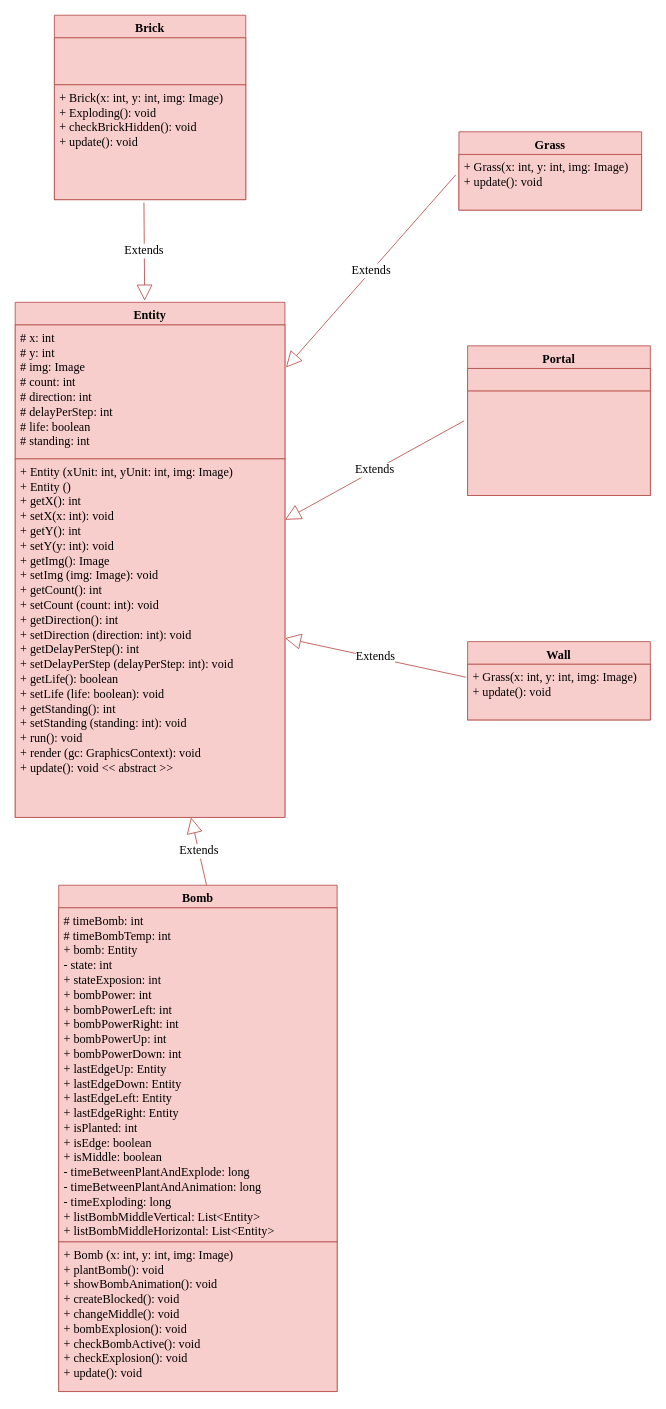
This 666x1409 diagram has some shape labels left out. Each missing label, with the centre of its shape:
+ dieScene: int + scoreOfThis: int: the point at 150,61
+ onPortal: boolean: the point at 558,379
+ Portal(x: int, y: int, img: Image) + canNextLevel(): boolean + update(): void: the point at 558,442
